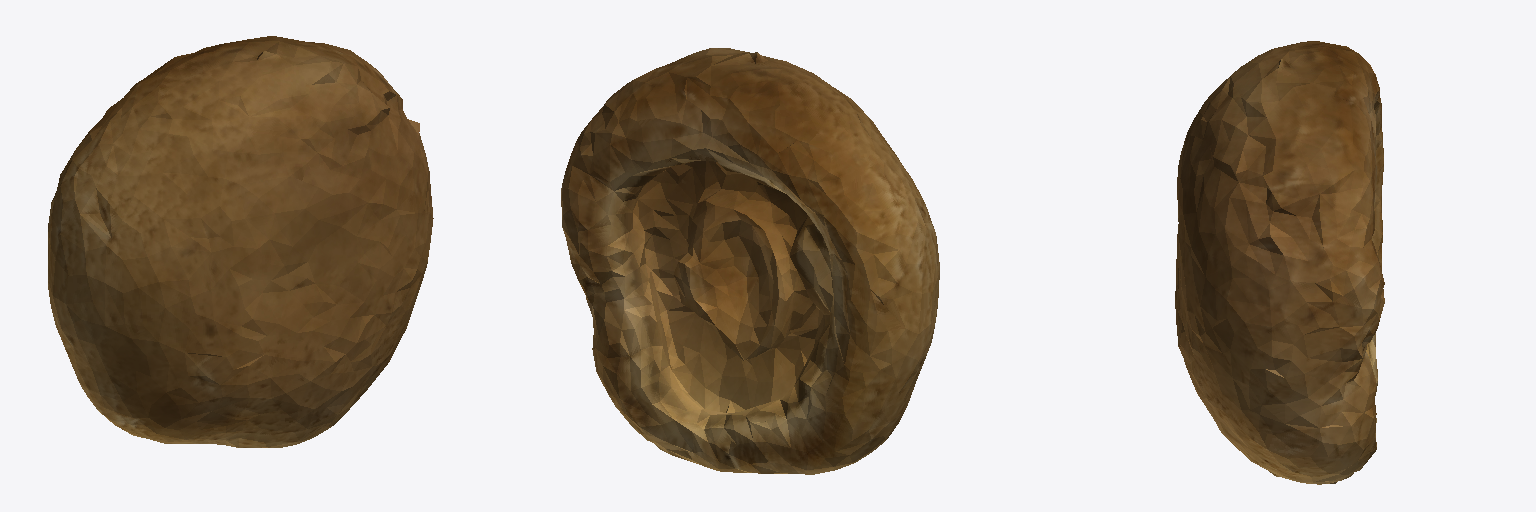
3 views of the same model, side by side, from view 1: azimuth 30°, elevation 25°; view 2: azimuth 150°, elevation 25°; view 3: azimuth 270°, elevation 25° (orthographic).
Visible parts, largest first — view 1: portobello_mushroom; view 2: portobello_mushroom; view 3: portobello_mushroom.
Part boxes in pixels (x1,y1,x2,y2): portobello_mushroom: (48,36,433,447); portobello_mushroom: (561,48,939,474); portobello_mushroom: (1175,41,1384,484).
Bounding box in the file's own units: 0.4671 × 0.5094 × 0.2398.
Materials: 1 (1 with a texture image).